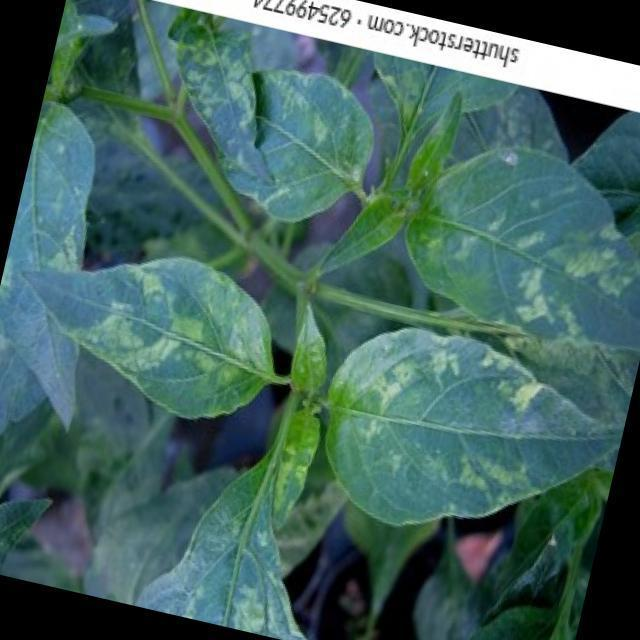Mosaic Virus: (330, 320, 634, 544), (142, 10, 378, 212), (75, 255, 278, 420), (456, 180, 640, 348), (162, 504, 321, 640)
